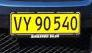0: (70, 16, 78, 31), (43, 16, 51, 31)
4: (62, 16, 70, 30)
5: (53, 16, 61, 31)
9: (34, 16, 43, 31)
V: (13, 16, 22, 32)
Y: (23, 16, 32, 31)
